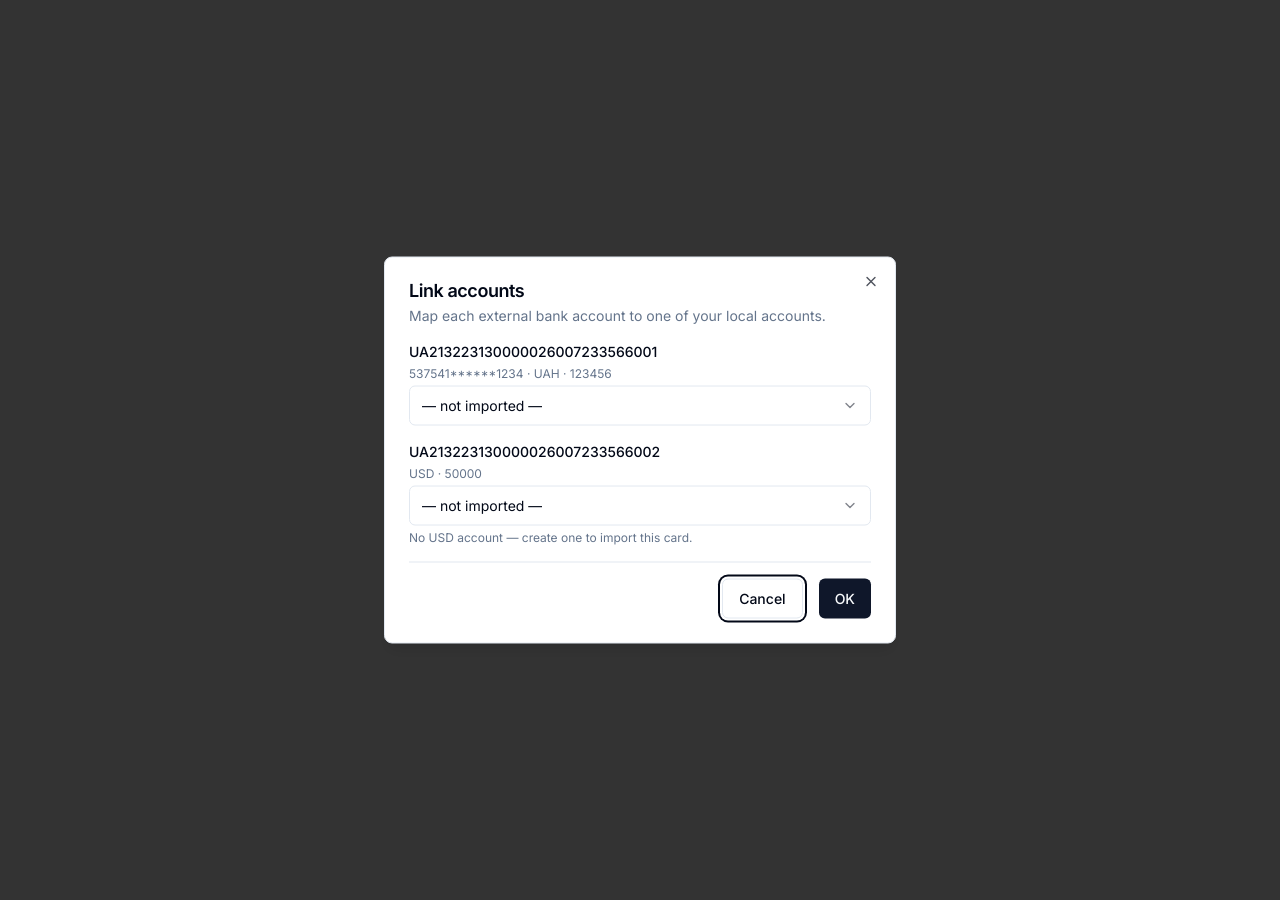
Test: LinkAccountsDialog › still offers a bank account mapped only by this connection
Click the dropdown named "UA213223130000026007233566001": x=482, y=405 [409,386,871,426]
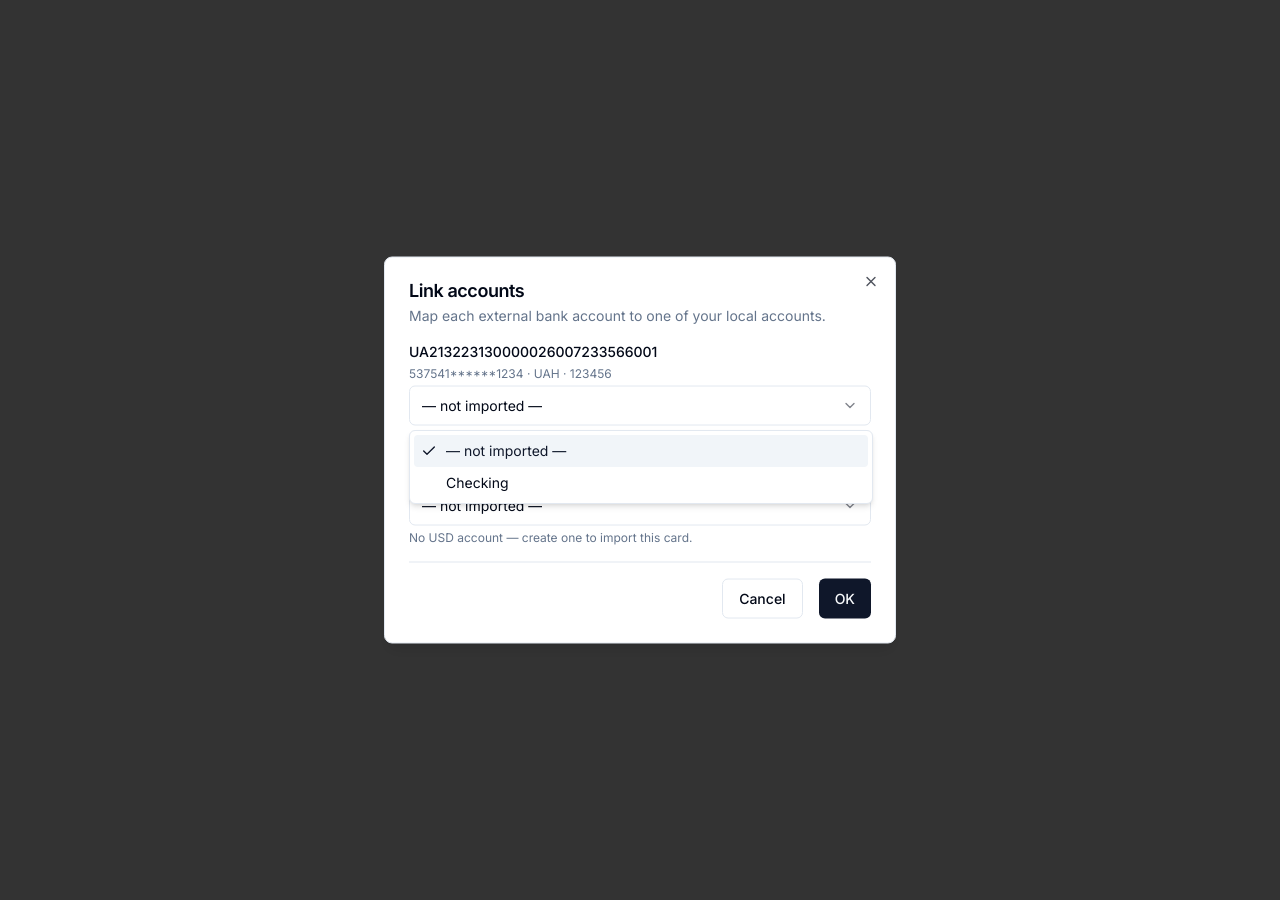
Result: the option "Checking" is shown at [446,474,509,491]
